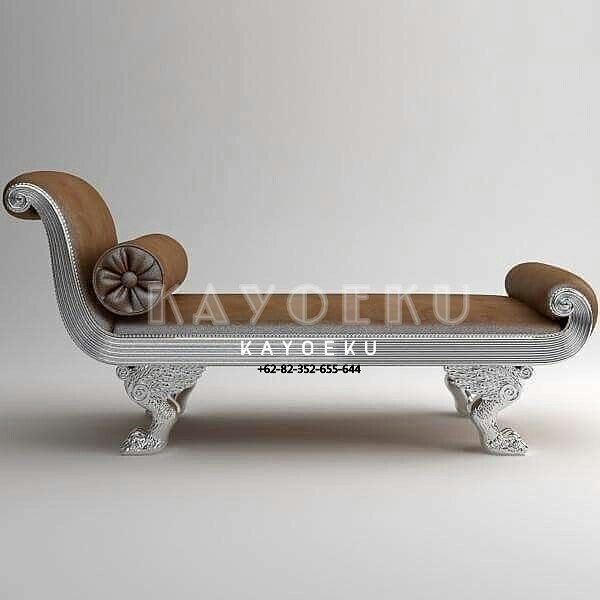Carving Chair: (23, 166, 593, 446)
